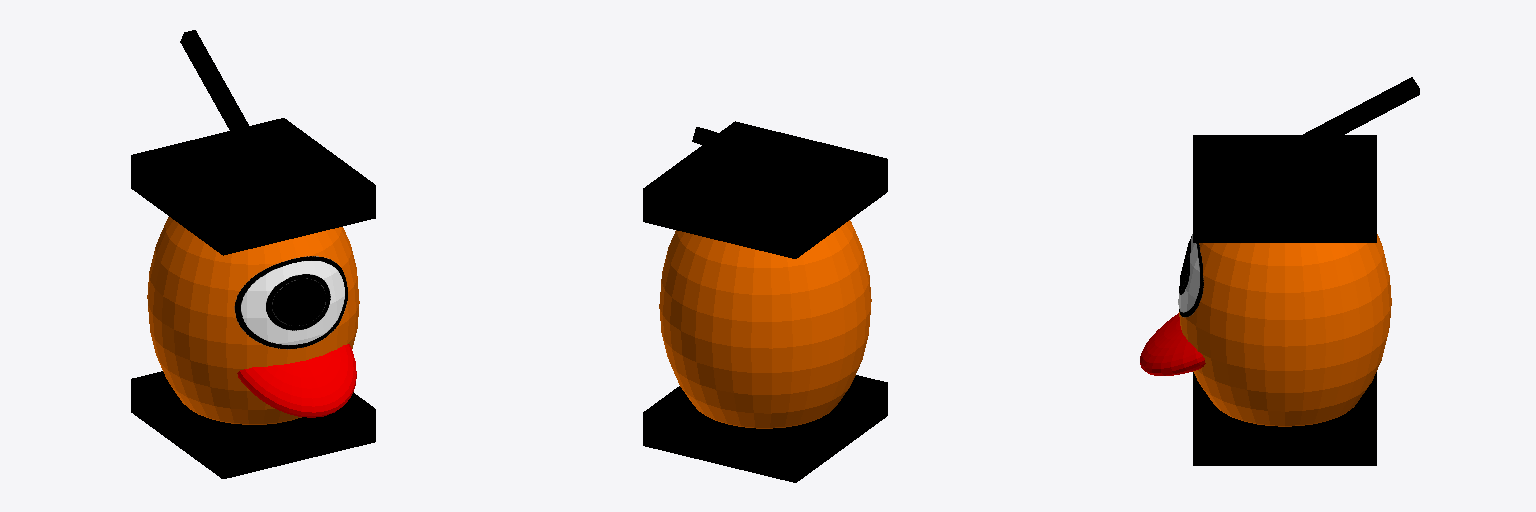
3 views of the same model, side by side, from view 1: azimuth 30°, elevation 25°; view 2: azimuth 150°, elevation 25°; view 3: azimuth 270°, elevation 25° (orthographic).
Parts seen in each view (by area): view 1: 球.002; view 2: 球.002; view 3: 球.002.
Part boxes in pixels (x1,y1,x2,y2): 球.002: (131,30,375,478); 球.002: (643,121,887,482); 球.002: (1140,77,1419,465).
Bounding box in the file's own units: 0.735 × 1.35 × 0.9708.
Materials: 1 (1 with a texture image).